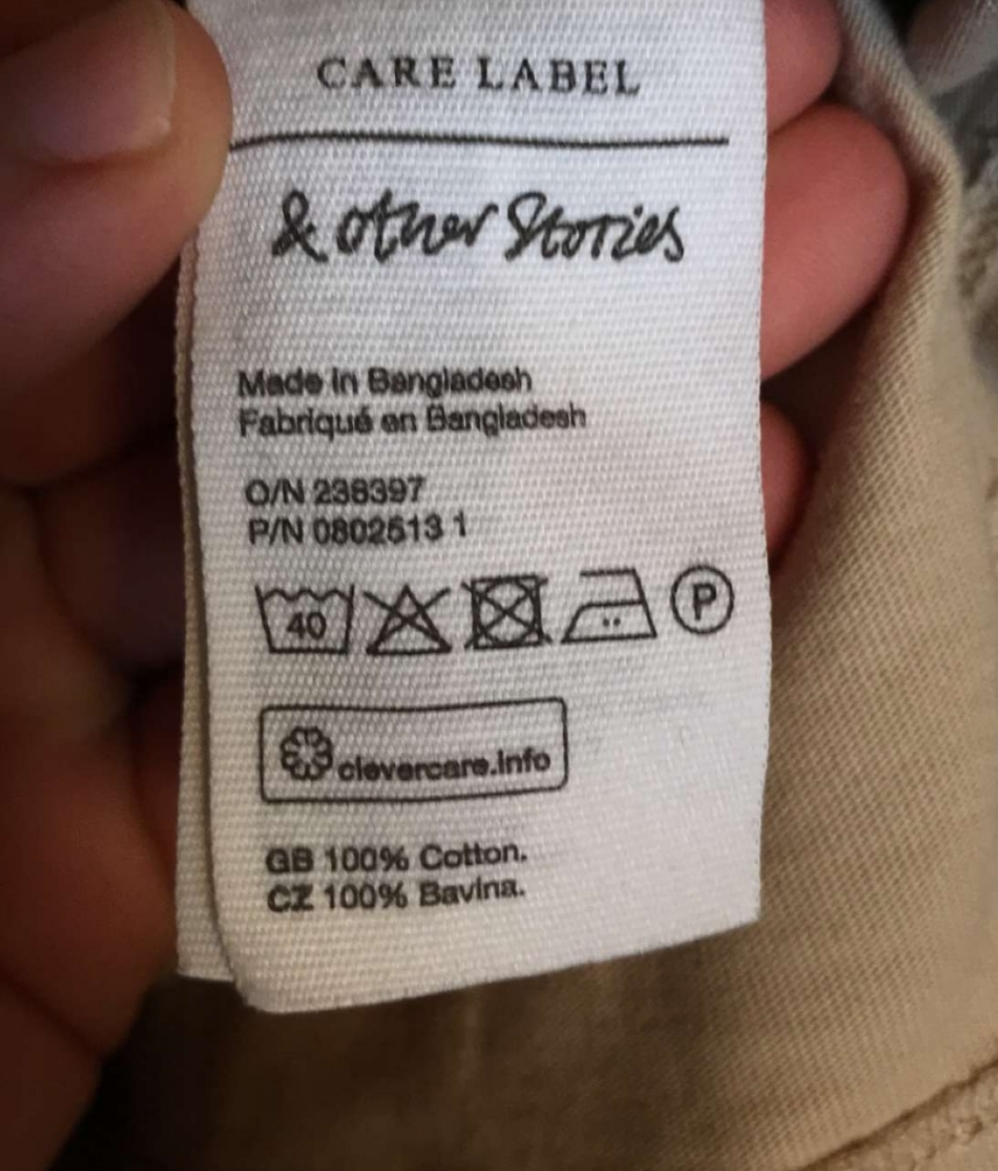do not bleach: (358, 573, 458, 667)
do not tumble dry: (454, 572, 562, 657)
dry clean: (668, 555, 755, 655)
iron medium temp: (562, 567, 667, 660)
wash at or below 40: (230, 571, 359, 672)
